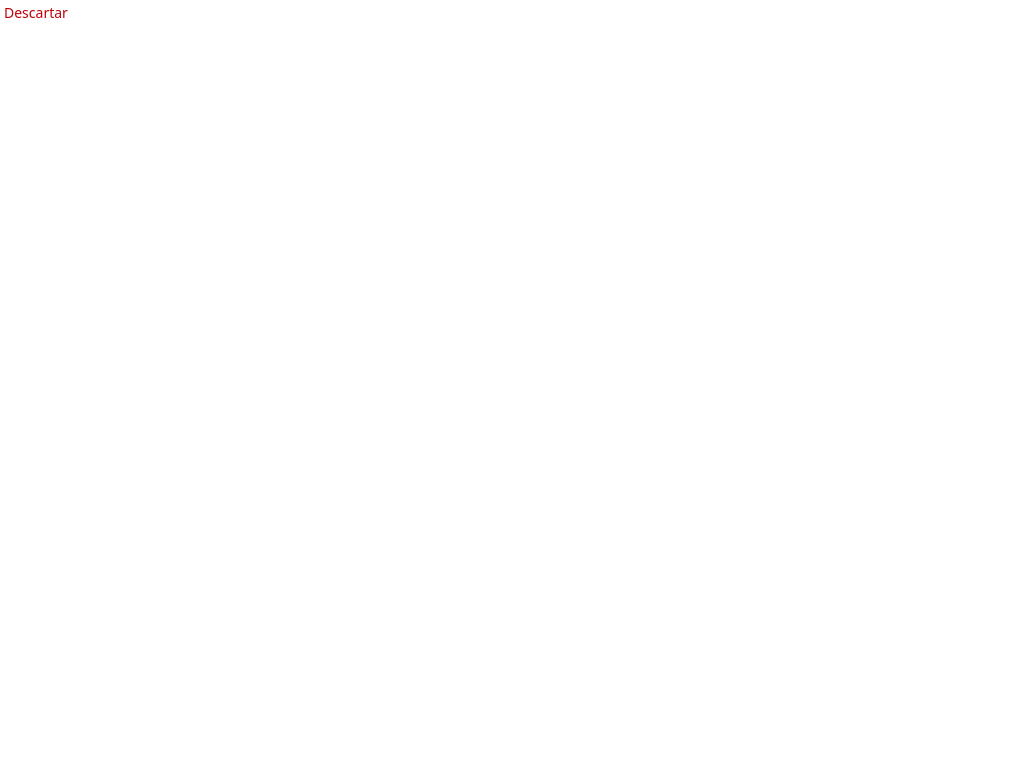
Scenario: AnularMedicion avisa que se borran las fotos › también al descartar un borrador con fotos
The width and height of the screenshot is (1024, 768).
Click the button "Descartar".
click(36, 13)  # box [0,3,72,23]
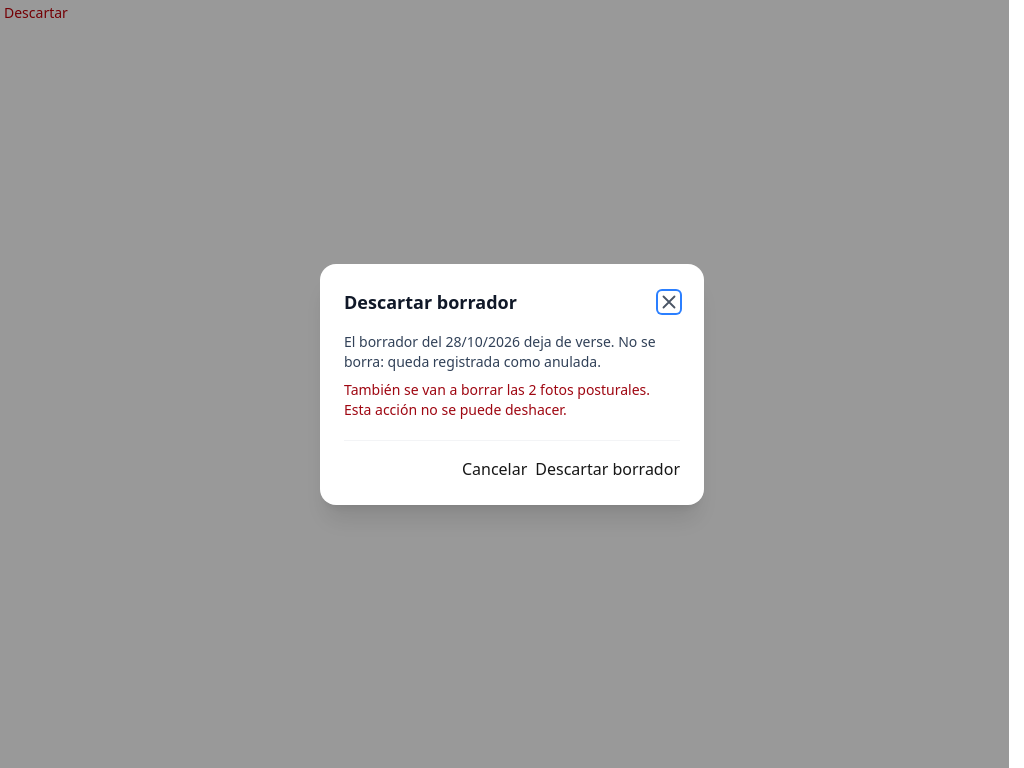
Now the dialog shows "También se van a borrar las 2 fotos posturales.", box [344,380,650,398]
